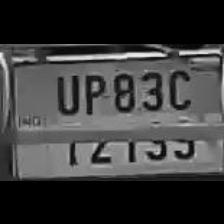3: (136, 64, 164, 110)
8: (107, 64, 137, 114)
C: (163, 62, 193, 110)
P: (78, 66, 106, 116)
U: (51, 66, 81, 116)
